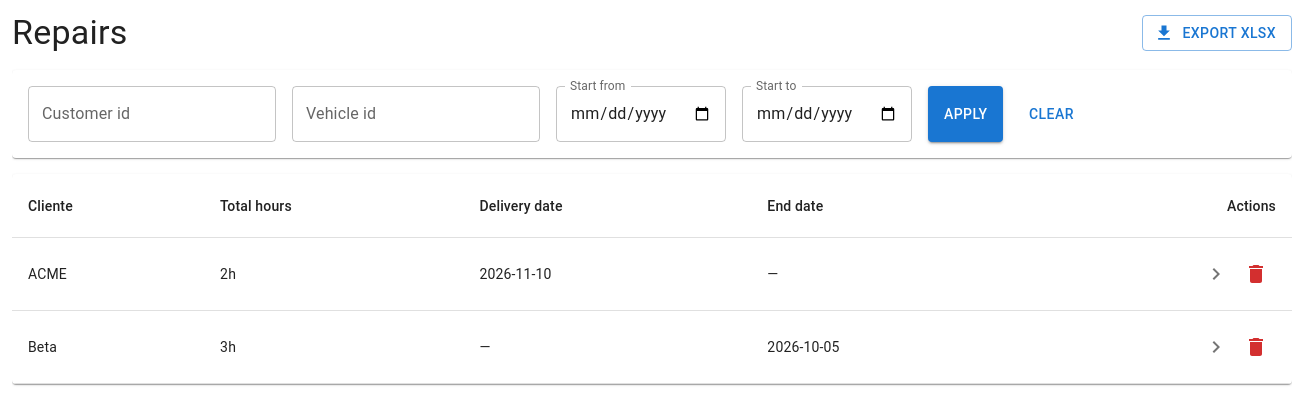
Test case: RepairsListPage › lists completed repairs and narrows when a filter is applied
Expected: the text "ACME" is shown, [12,238,204,311]
Expected: the text "Beta" is shown, [12,311,204,384]
In the number field labelled "Customer id": {"x": 152, "y": 114} [28,86,276,142], type "9"
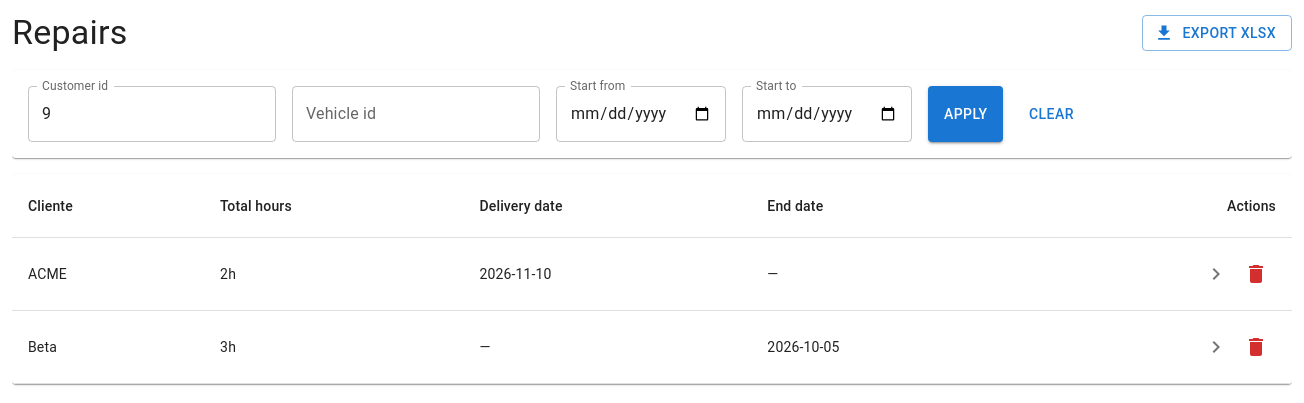
Click the button "Apply": {"x": 966, "y": 114} [928,86,1003,142]
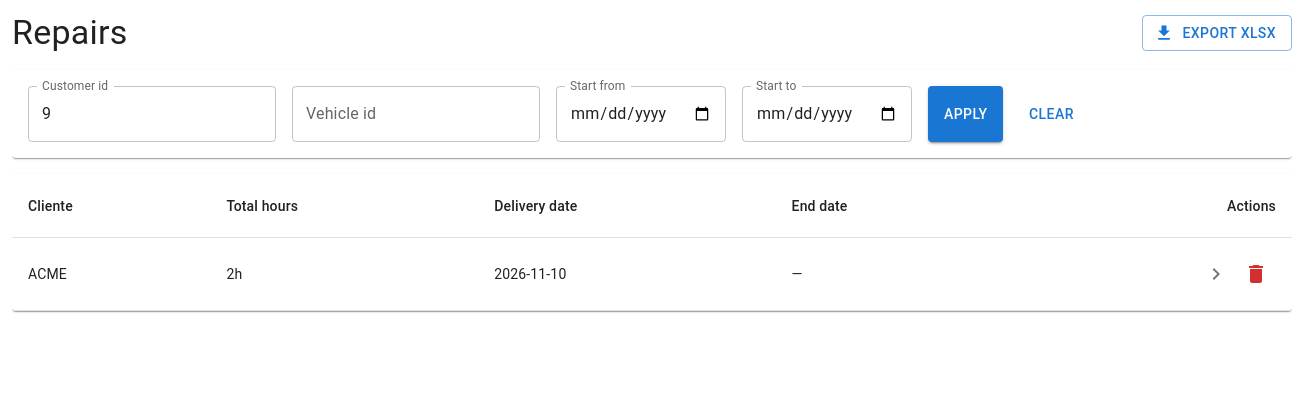
Now the text "Beta" is gone
